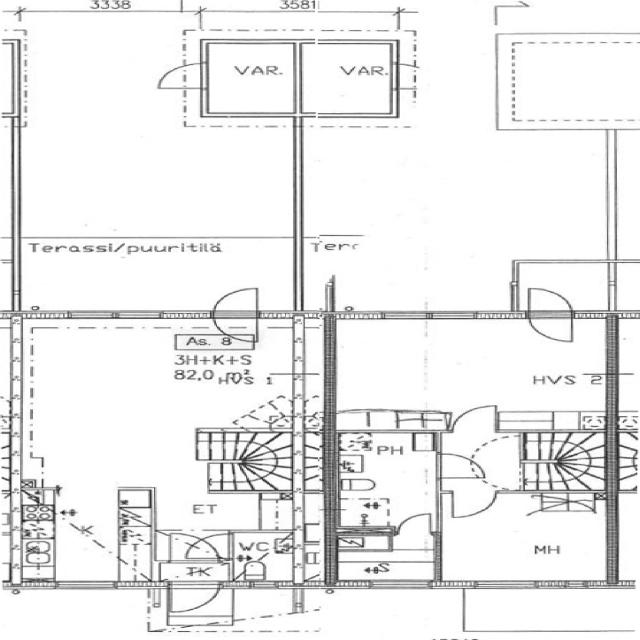door: (523, 284, 578, 345), (208, 285, 264, 328), (438, 484, 501, 522), (166, 579, 225, 615), (166, 530, 230, 562), (446, 402, 504, 436), (439, 452, 497, 482), (153, 62, 205, 90), (391, 510, 441, 537), (527, 319, 576, 346), (500, 0, 537, 8)
window: (61, 308, 159, 323), (468, 578, 541, 593), (364, 578, 434, 593), (52, 578, 122, 593), (427, 308, 481, 322), (246, 580, 285, 592)
zone: (336, 313, 619, 429), (13, 322, 314, 426), (17, 428, 173, 587), (432, 492, 616, 586), (332, 430, 440, 532), (202, 42, 299, 116), (300, 42, 394, 116), (330, 532, 440, 586), (232, 530, 300, 586)
